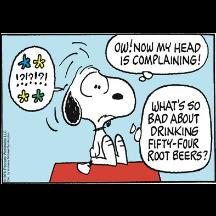snoopy: (60, 62, 138, 176)
